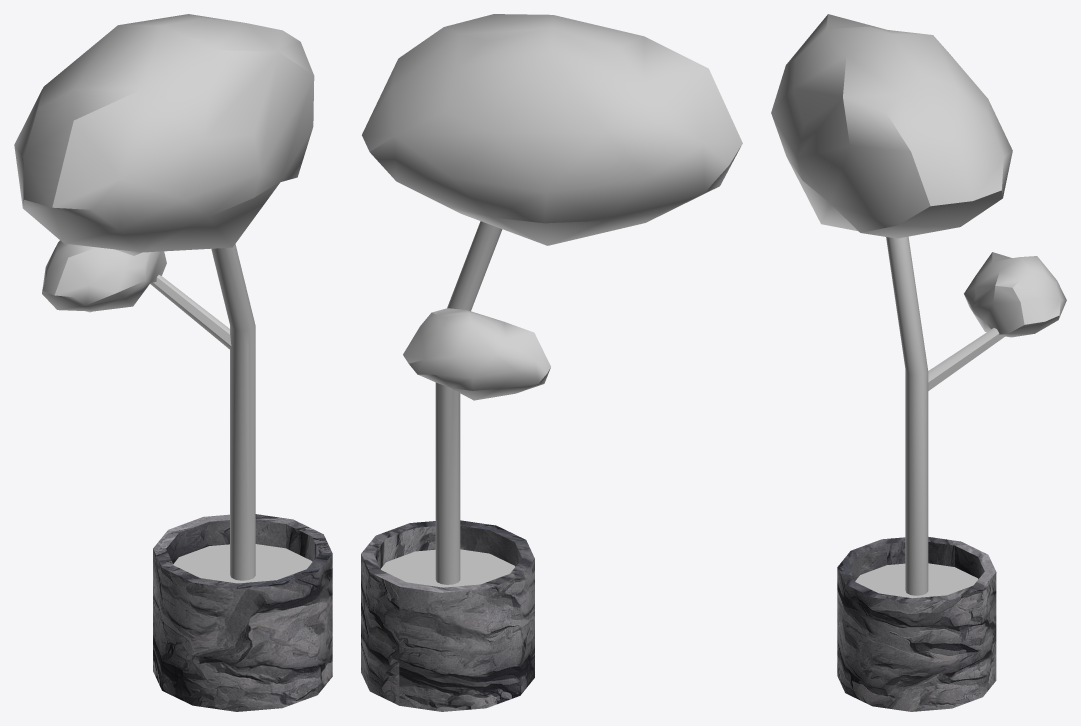
The model's file is Planta3.obj.
The picture shows the model from 3 angles, left to right: view 1: azimuth 30°, elevation 25°; view 2: azimuth 150°, elevation 25°; view 3: azimuth 270°, elevation 25°; orthographic projection. The views are drawn at different scales.
Visible parts, largest first — view 1: Planta3:Mesh; view 2: Planta3:Mesh; view 3: Planta3:Mesh.
Boxes of the visible parts, <box> form: Planta3:Mesh: <box>14,14,332,711</box>; Planta3:Mesh: <box>361,14,742,711</box>; Planta3:Mesh: <box>771,14,1066,711</box>.
Size of the model in its own units: 0.9176 by 1.8 by 0.7988.
